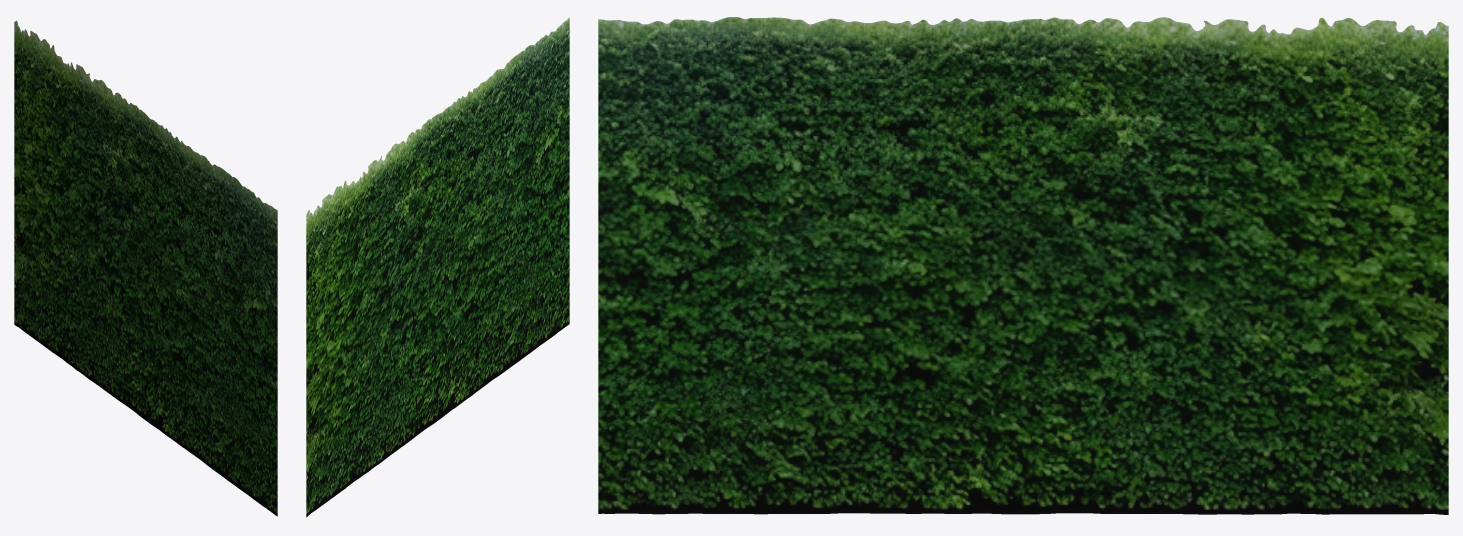
File: HedgeCurveLowPoly.fbx
3 renders of one model, left to right at view 1: azimuth 30°, elevation 25°; view 2: azimuth 150°, elevation 25°; view 3: azimuth 270°, elevation 25°, orthographic. The views are drawn at different scales.
Visible parts, largest first — view 1: HedgeBillboard_HighPoly; view 2: HedgeBillboard_HighPoly; view 3: HedgeBillboard_HighPoly.
Boxes of the visible parts, x1,y1,x2,y2 form: HedgeBillboard_HighPoly: (14,20,277,516); HedgeBillboard_HighPoly: (306,17,569,517); HedgeBillboard_HighPoly: (598,17,1448,514).
Bounding box in the file's own units: 1.53e-05 × 250 × 379.
Materials: 1 (1 with a texture image).
